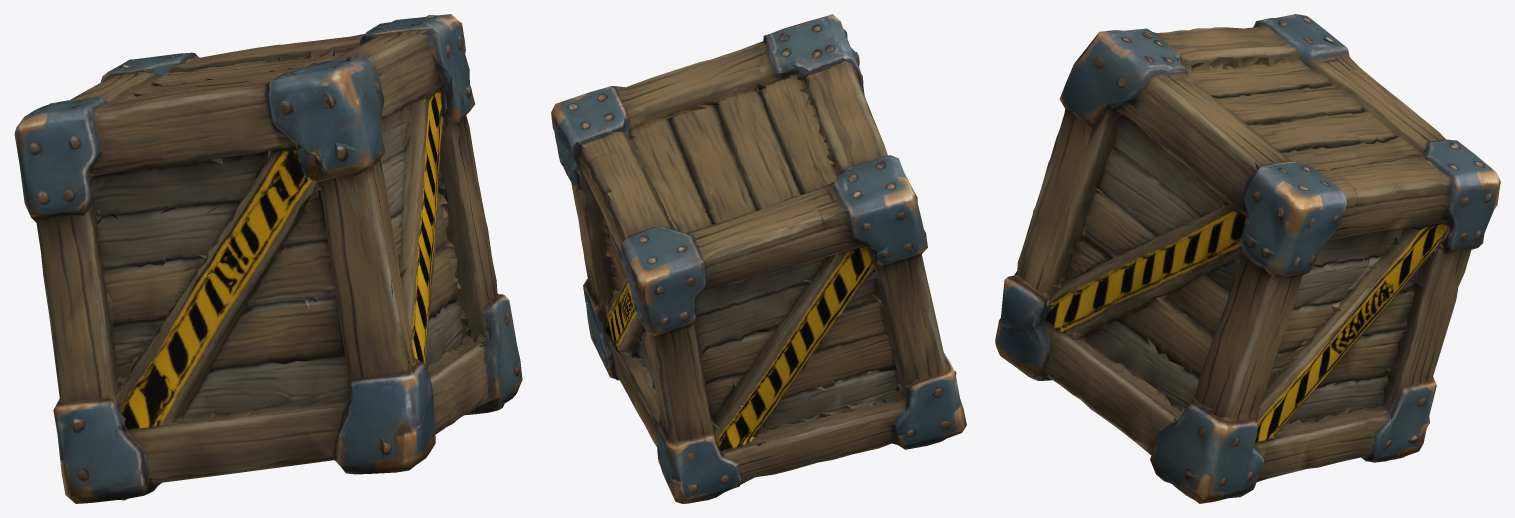
File: stylized_wooden_cargo_crate_with.glb
3 renders of one model, left to right at view 1: azimuth 30°, elevation 25°; view 2: azimuth 150°, elevation 25°; view 3: azimuth 270°, elevation 25°, orthographic. The views are drawn at different scales.
Visible parts, largest first — view 1: stylized_wooden_cargo_crate_with; view 2: stylized_wooden_cargo_crate_with; view 3: stylized_wooden_cargo_crate_with.
Part boxes in pixels (x1,y1,x2,y2): stylized_wooden_cargo_crate_with: [14, 14, 522, 503]; stylized_wooden_cargo_crate_with: [551, 14, 966, 503]; stylized_wooden_cargo_crate_with: [995, 14, 1500, 503].
Bounding box in the file's own units: 1 × 1 × 1.09.
1 material, 1 textured.
